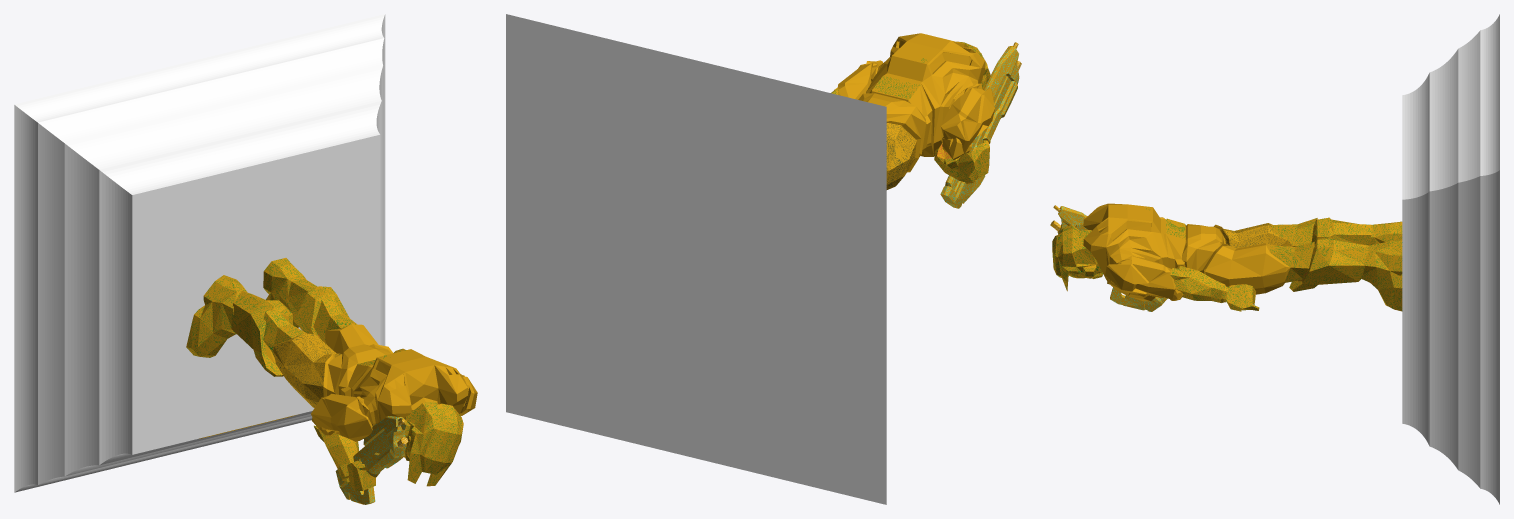
3 views of the same model, side by side, from view 1: azimuth 30°, elevation 25°; view 2: azimuth 150°, elevation 25°; view 3: azimuth 270°, elevation 25° (orthographic). The views are drawn at different scales.
Visible parts, largest first — view 1: video game war heroes spartan john; view 2: video game war heroes spartan john; view 3: video game war heroes spartan john.
Boxes of the visible parts, left/top/right/bottom form: video game war heroes spartan john: left=14, top=14, right=477, bottom=504; video game war heroes spartan john: left=506, top=14, right=1021, bottom=504; video game war heroes spartan john: left=1050, top=14, right=1499, bottom=504.
Size of the model in its own units: 71 by 71 by 86.42.
